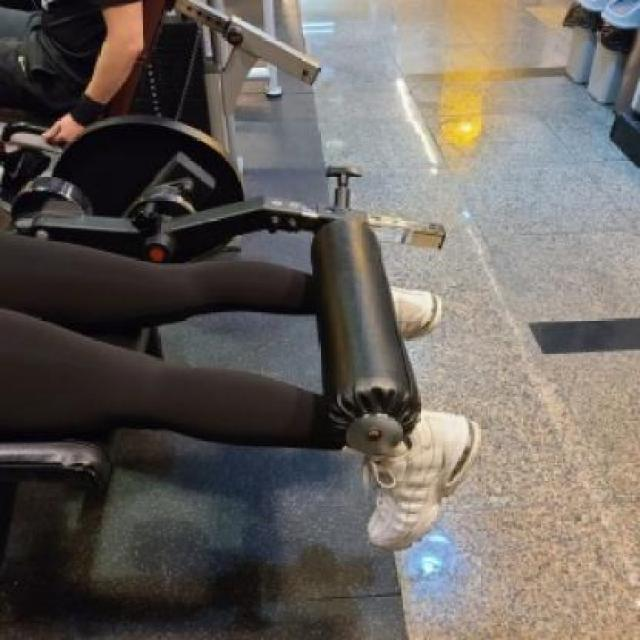reg curl machine: (2, 162, 486, 562)
